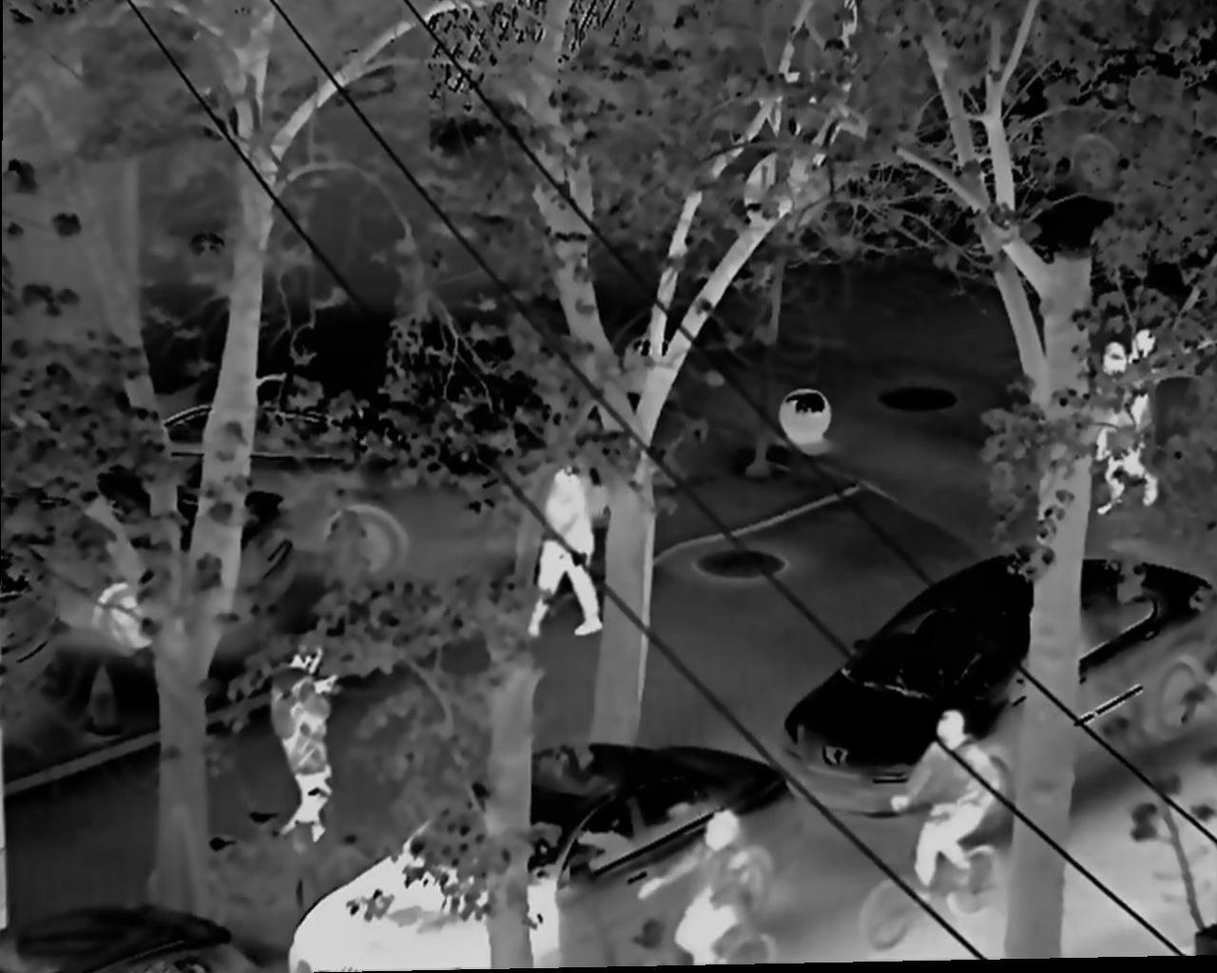person: (893, 711, 997, 937), (635, 810, 771, 973), (515, 456, 604, 652), (255, 643, 334, 847), (1098, 320, 1173, 531)
